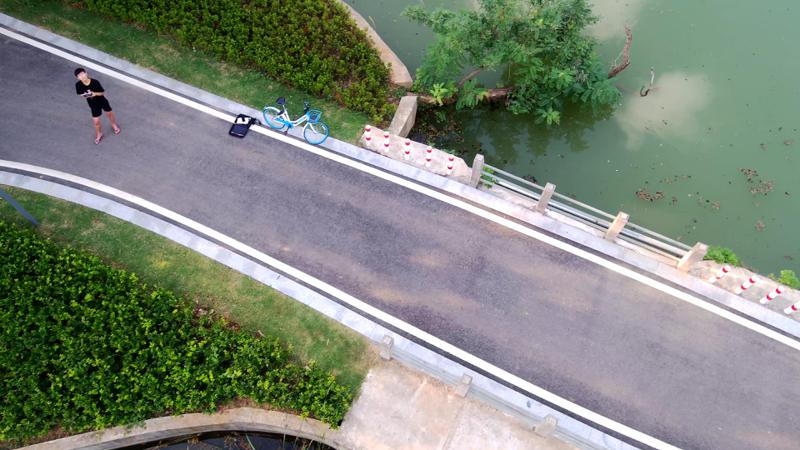passerby: (73, 65, 121, 145)
